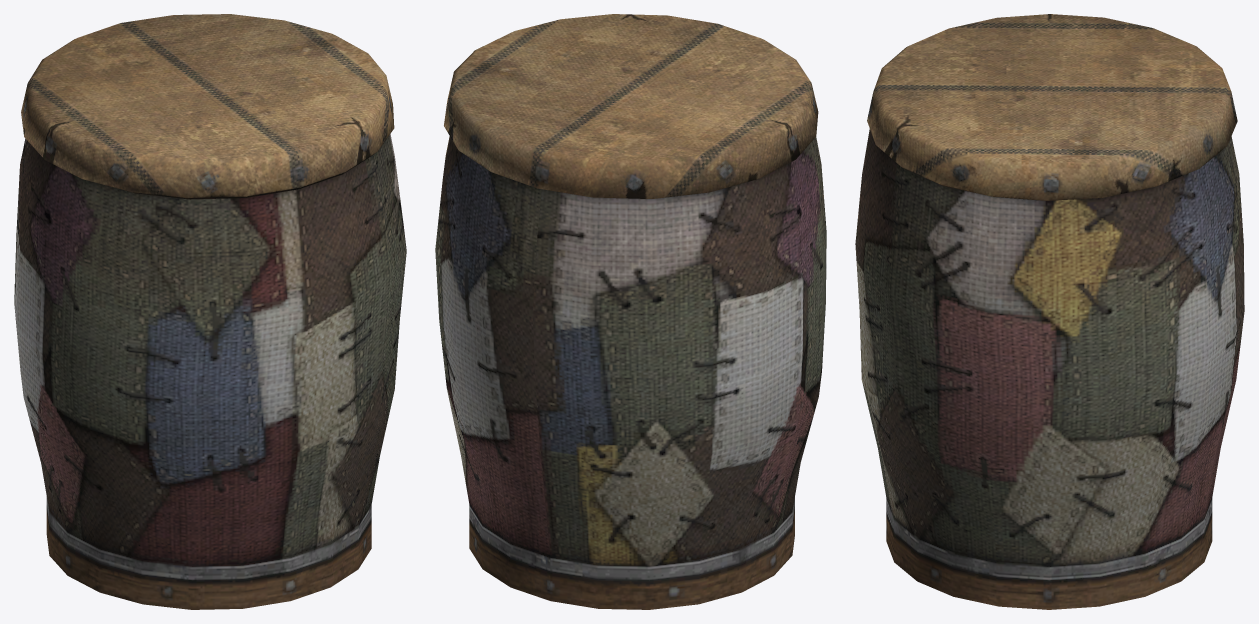
Rendered from music_instrument_drum.dae.
3 views of the same model, side by side, from view 1: azimuth 30°, elevation 25°; view 2: azimuth 150°, elevation 25°; view 3: azimuth 270°, elevation 25° (orthographic).
Visible parts, largest first — view 1: music_instrument_drum; view 2: music_instrument_drum; view 3: music_instrument_drum.
Part boxes in pixels (x1=…): music_instrument_drum: x1=14, y1=14, x2=406, y2=609; music_instrument_drum: x1=435, y1=14, x2=826, y2=609; music_instrument_drum: x1=855, y1=14, x2=1244, y2=609.
Bounding box in the file's own units: 0.5494 × 0.698 × 0.544.
